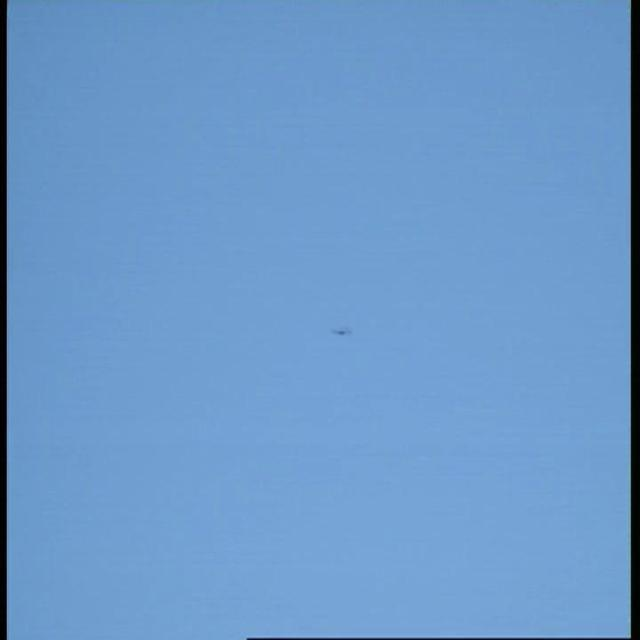drone: (326, 318, 356, 344)
